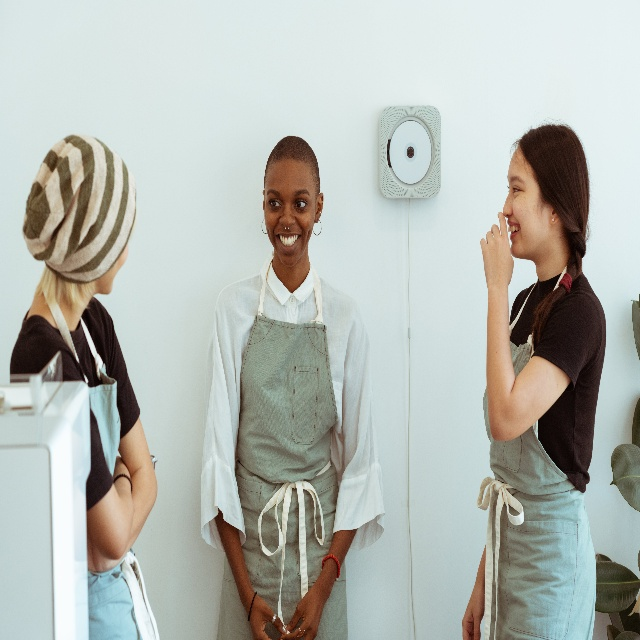Sin_guantes: (281, 579, 331, 640), (480, 211, 515, 288), (461, 576, 487, 640), (249, 595, 287, 637)
